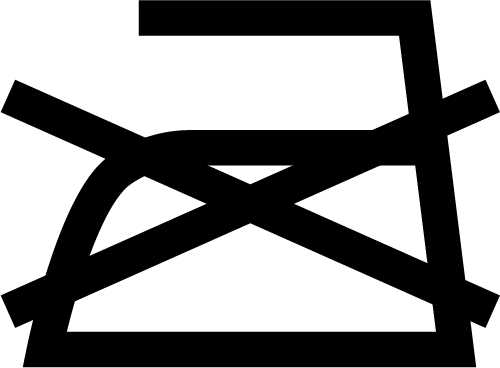do_not_iron: (22, 1, 500, 367)
